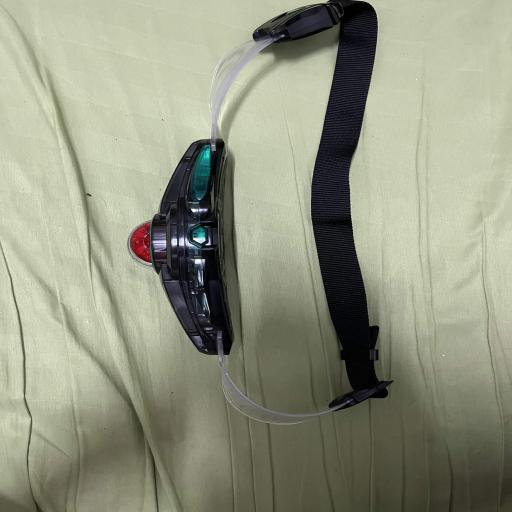zeztzdriver: (129, 0, 393, 424), (128, 221, 151, 266)
